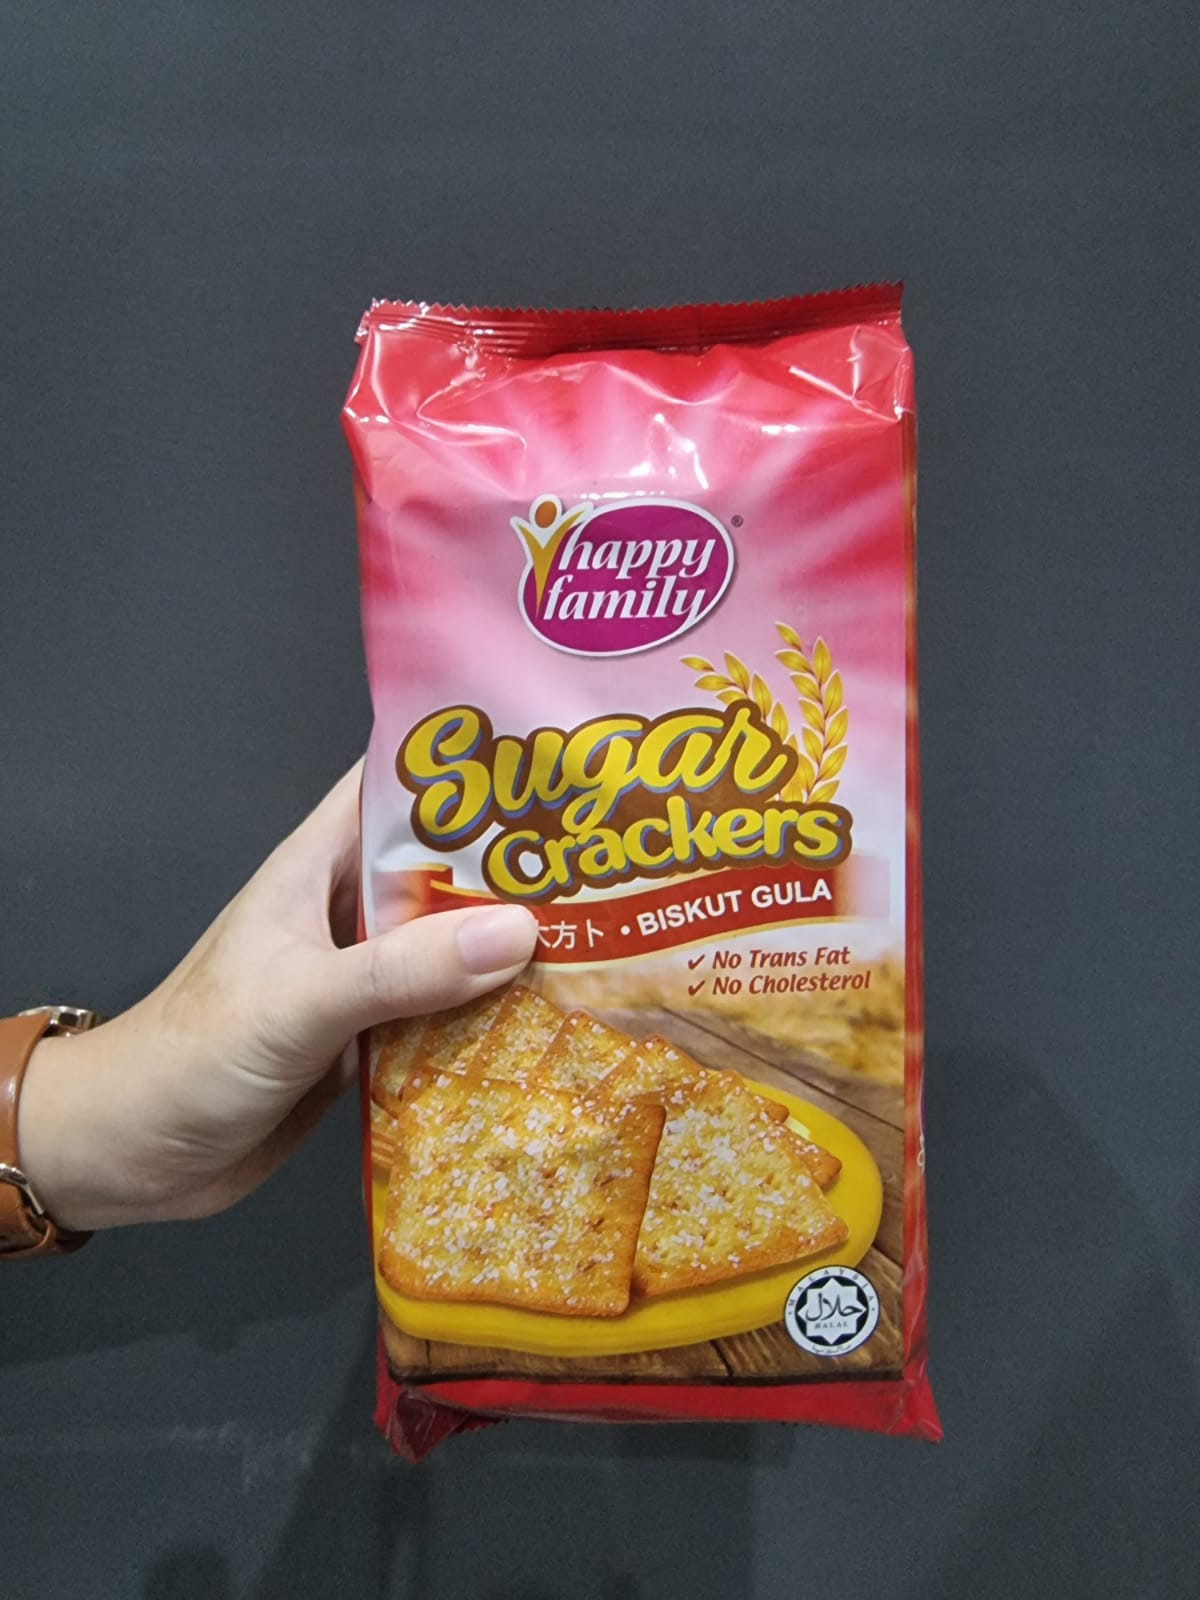Biscuits: (379, 379, 913, 1402)
